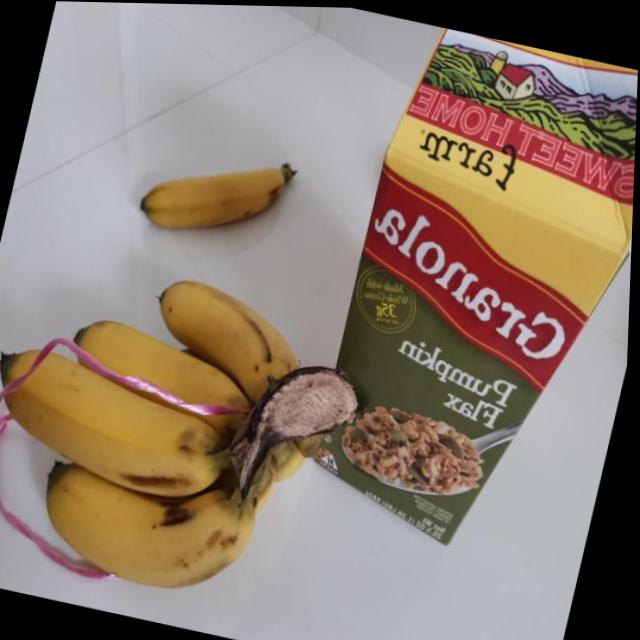Book: (0, 240, 386, 627), (130, 125, 302, 261)
Cerealbox: (301, 18, 640, 575)
